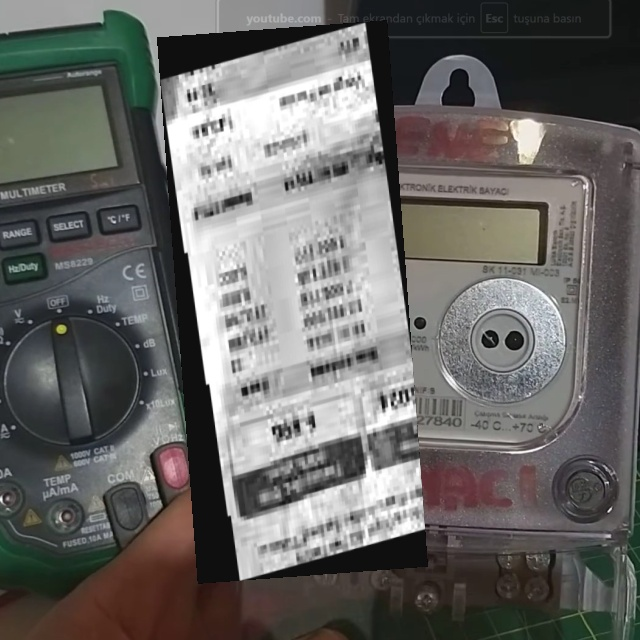electricity-bill: (156, 20, 428, 584)
